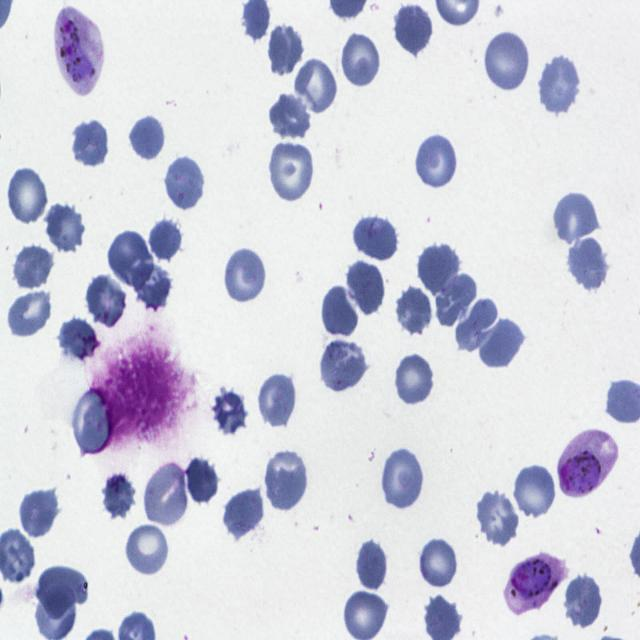difficult: (504, 552, 568, 614)
gametocyte: (556, 428, 620, 496)
red blood cell: (483, 29, 532, 94), (380, 446, 426, 512), (264, 447, 309, 514), (107, 229, 154, 289), (144, 462, 188, 526), (222, 245, 268, 306), (537, 53, 581, 116), (270, 142, 314, 204), (566, 234, 610, 296), (553, 190, 600, 248), (474, 489, 521, 547), (319, 338, 368, 393), (476, 314, 524, 370), (5, 166, 49, 227), (295, 57, 340, 115), (222, 484, 265, 544), (513, 463, 557, 521), (36, 565, 86, 616), (124, 523, 170, 578), (416, 241, 461, 297), (6, 287, 54, 339), (256, 371, 298, 430), (163, 155, 205, 213), (345, 260, 387, 318), (85, 272, 128, 328), (340, 32, 381, 90), (414, 135, 458, 188), (128, 261, 172, 314), (393, 352, 436, 406), (435, 273, 478, 327), (564, 573, 604, 630), (455, 298, 498, 351), (43, 200, 85, 254), (74, 390, 110, 453), (352, 214, 399, 262), (320, 285, 361, 340), (18, 486, 60, 539), (266, 20, 304, 78), (392, 6, 433, 59), (419, 537, 459, 590), (71, 116, 110, 170), (268, 90, 311, 138), (12, 242, 54, 290), (58, 314, 100, 362), (354, 538, 390, 593), (182, 455, 222, 503), (395, 287, 432, 336), (212, 386, 248, 436), (129, 114, 166, 162), (100, 471, 136, 518), (148, 216, 184, 262)
trophozoite: (54, 6, 104, 95)
